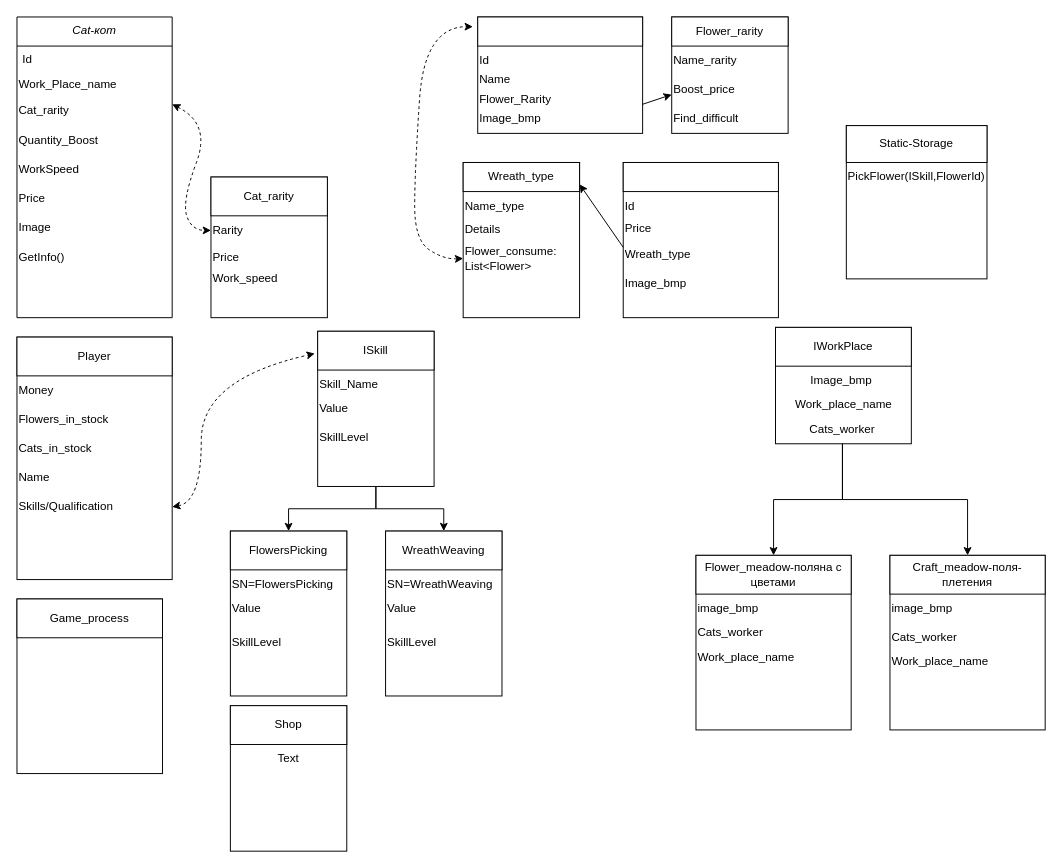
This 1062x868 diagram has some shape labels left out. Here are the shapes that lost their labels. From the top down, the centre of each, then its label:
the point at 560,31: Flower-цветок
the point at 700,177: Wreath-венок
